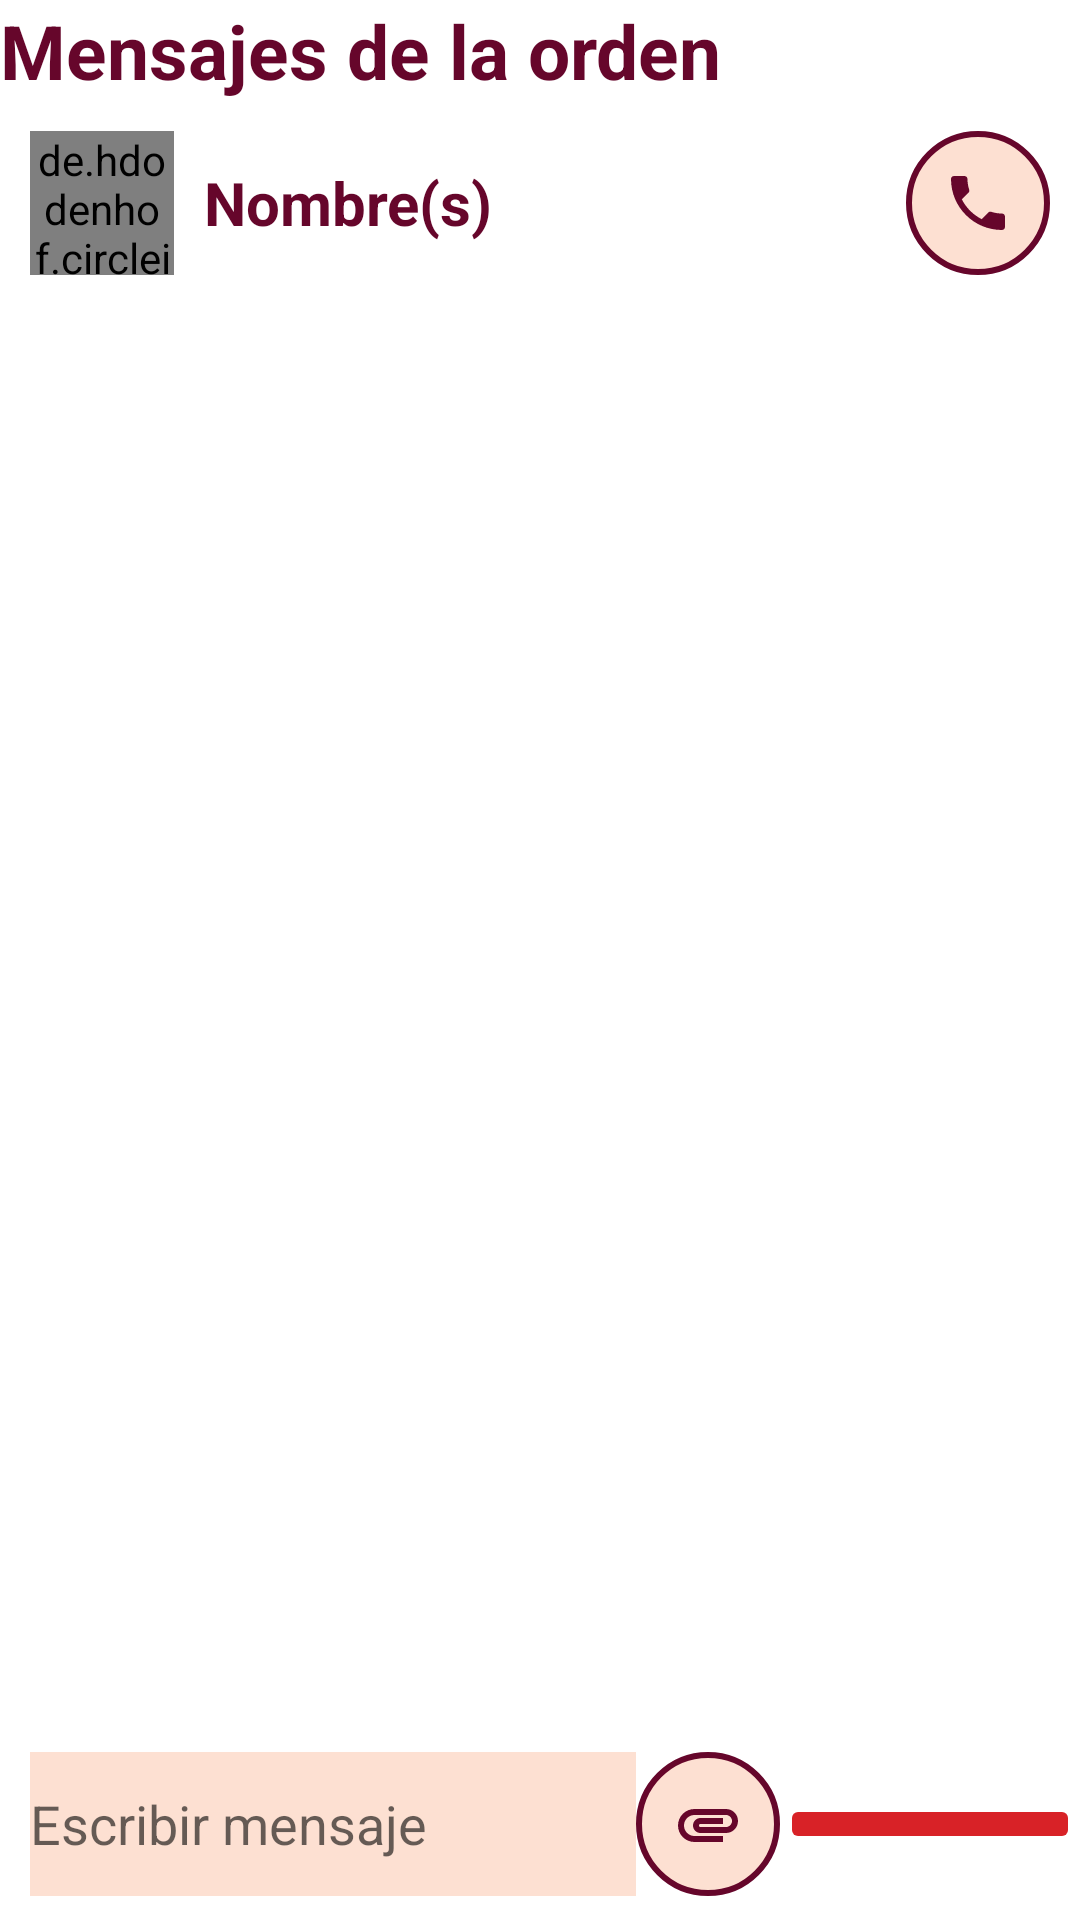

Icons on this 1080 × 1920 Android screen, each with its box as (x1,y1,x2,y2):
Adjuntar imagen: (636,1752,780,1896)
